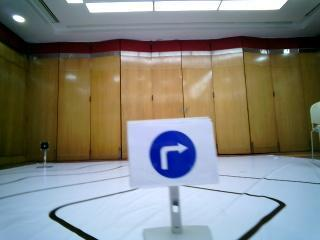right: (133, 123, 219, 180)
